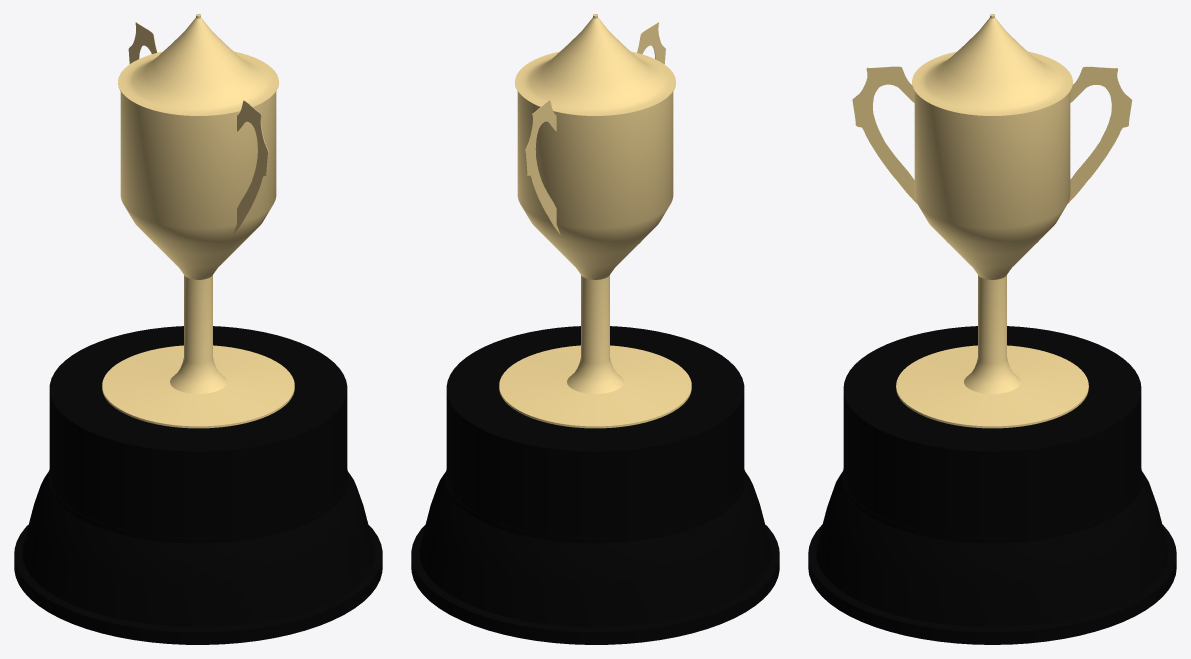
Rendered from trophy-gold.glb.
3 renders of one model, left to right at view 1: azimuth 30°, elevation 25°; view 2: azimuth 150°, elevation 25°; view 3: azimuth 270°, elevation 25°, orthographic.
Visible parts, largest first — view 1: Trophy Base_0, Trophy body _1, Trophy Bottom _2, Trophy top_4, Trophy Handles _3; view 2: Trophy Base_0, Trophy body _1, Trophy Bottom _2, Trophy top_4, Trophy Handles _3; view 3: Trophy Base_0, Trophy body _1, Trophy Bottom _2, Trophy top_4, Trophy Handles _3.
Part boxes in pixels (x1,y1,x2,y2): Trophy Base_0: (14, 326, 382, 644); Trophy body _1: (120, 92, 276, 279); Trophy Bottom _2: (102, 275, 294, 428); Trophy top_4: (118, 14, 278, 116); Trophy Handles _3: (128, 22, 268, 235); Trophy Base_0: (411, 326, 779, 644); Trophy body _1: (517, 92, 673, 279); Trophy Bottom _2: (499, 275, 691, 428); Trophy top_4: (515, 14, 675, 116); Trophy Handles _3: (525, 22, 665, 234); Trophy Base_0: (808, 326, 1176, 644); Trophy body _1: (914, 92, 1070, 279); Trophy Bottom _2: (896, 275, 1088, 428); Trophy top_4: (912, 14, 1072, 116); Trophy Handles _3: (852, 66, 1132, 203).
Size of the model in its own units: 6.89 by 11.39 by 6.89.
2 materials, 1 textured.
